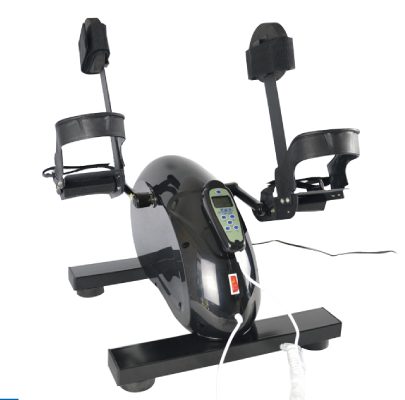gym_bike: (28, 15, 365, 391)
